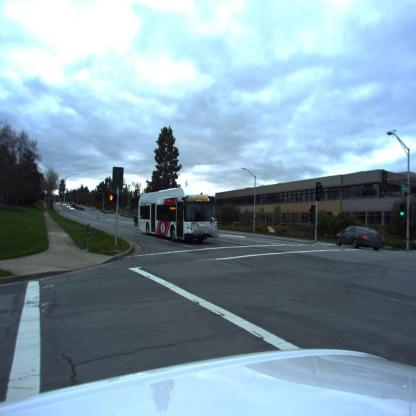bus: (137, 188, 218, 244)
car: (336, 226, 385, 249)
traffic light: (112, 166, 123, 194), (316, 183, 324, 202), (109, 194, 115, 202)
